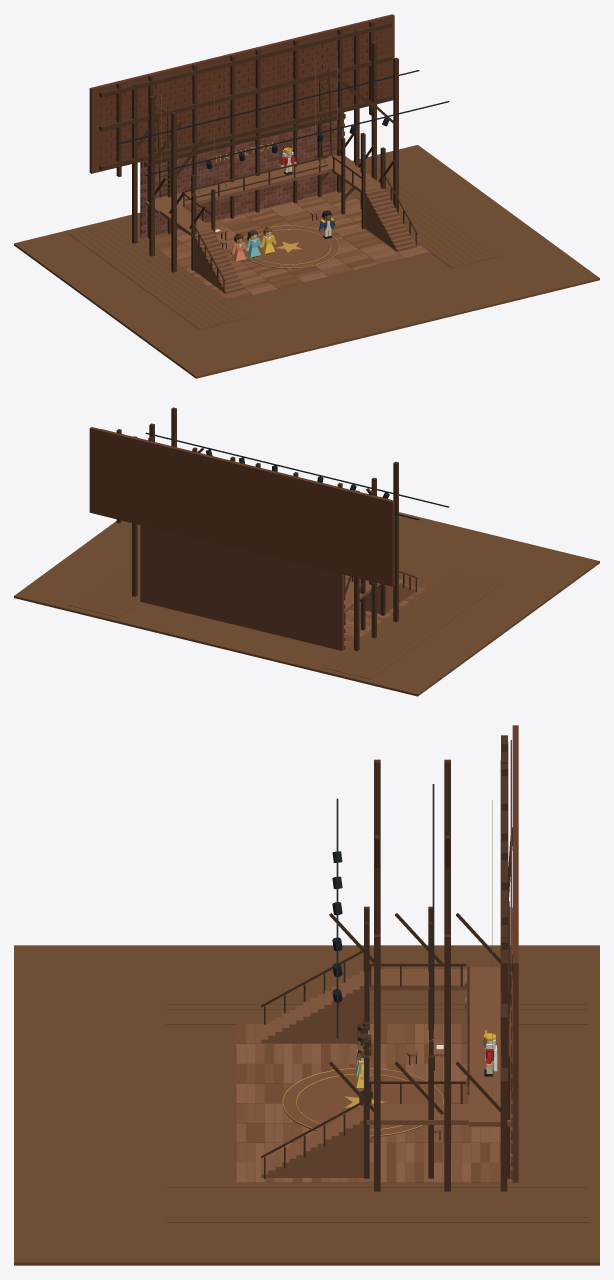
The model's file is stage.glb.
The picture shows the model from 3 angles, top to bottom: view 1: azimuth 30°, elevation 25°; view 2: azimuth 150°, elevation 25°; view 3: azimuth 270°, elevation 25°; orthographic projection. The views are drawn at different scales.
Parts seen in each view (by area): view 1: SM_Open_ExtendedFloor, SM_Open_UpperBrickWall, SM_Turntable.003, SM_RearGallery.003, SM_Open_HighBeam.002, SM_Open_HighBeam.001, SM_Open_HighBeam, SM_TopBeam.003, SM_Open_WingTallPost, SM_Open_WingTallPost.001, SM_Open_WingFloor.007, SM_Open_WingTallPost.002 (+20 smaller); view 2: SM_Open_ExtendedFloor, SM_Open_UpperBrickWall, SM_BackWall.003, SM_Open_WingFloor.007, SM_Open_WingFloor.004, SM_Open_WingFloor.005, SM_Open_WingFloor.002, SM_Open_WingFloor.003, SM_Open_WingFloor.006, SM_Open_WingTallPost, SM_Open_WingFloor.001, SM_Open_WingFloor (+6 smaller); view 3: SM_Open_ExtendedFloor, SM_Turntable.003, SM_RearGallery.003, SM_Open_UpperBrickWall, SM_Open_WingFloor.015, SM_Open_WingFloor.010, SM_Open_WingFloor.011, SM_Open_WingFloor.012, SM_Open_WingFloor.013, SM_Open_WingFloor.014, SM_Open_WingFloor.009, SM_Open_WingFloor.008 (+21 smaller).
Part boxes in pixels (x1,y1,x2,y2): SM_Open_ExtendedFloor: (14, 145, 599, 378); SM_Open_UpperBrickWall: (89, 14, 394, 173); SM_Turntable.003: (243, 226, 339, 268); SM_RearGallery.003: (145, 155, 354, 213); SM_Open_HighBeam.002: (99, 21, 391, 97); SM_Open_HighBeam.001: (99, 55, 391, 131); SM_Open_HighBeam: (99, 95, 391, 170); SM_TopBeam.003: (144, 113, 345, 166); SM_Open_WingTallPost: (171, 112, 176, 272); SM_Open_WingTallPost.001: (149, 96, 154, 256); SM_Open_WingFloor.007: (68, 232, 205, 329); SM_Open_WingTallPost.002: (132, 83, 137, 243); SM_Open_ExtendedFloor: (14, 512, 599, 696); SM_Open_UpperBrickWall: (89, 427, 394, 586); SM_BackWall.003: (140, 525, 343, 650); SM_Open_WingFloor.007: (365, 581, 501, 679); SM_Open_WingFloor.004: (346, 577, 482, 674); SM_Open_WingFloor.005: (352, 578, 488, 676); SM_Open_WingFloor.002: (333, 574, 470, 671); SM_Open_WingFloor.003: (339, 575, 476, 673); SM_Open_WingFloor.006: (358, 580, 495, 677); SM_Open_WingTallPost: (393, 461, 398, 622); SM_Open_WingFloor.001: (327, 572, 463, 669); SM_Open_WingFloor: (321, 571, 457, 668); SM_Open_ExtendedFloor: (14, 945, 599, 1265); SM_Turntable.003: (282, 1068, 443, 1137); SM_RearGallery.003: (468, 967, 510, 1126); SM_Open_UpperBrickWall: (512, 725, 518, 1098); SM_Open_WingFloor.015: (166, 1217, 588, 1222); SM_Open_WingFloor.010: (166, 1192, 588, 1197); SM_Open_WingFloor.011: (166, 1197, 588, 1202); SM_Open_WingFloor.012: (166, 1202, 588, 1207); SM_Open_WingFloor.013: (166, 1207, 588, 1212); SM_Open_WingFloor.014: (166, 1212, 588, 1217); SM_Open_WingFloor.009: (166, 1187, 588, 1192); SM_Open_WingFloor.008: (166, 1182, 588, 1187).
Size of the model in its own units: 32 by 12.82 by 25.
